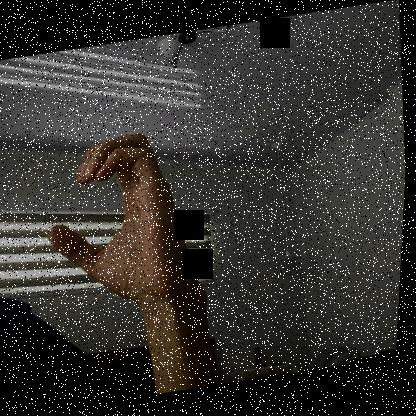C: (39, 125, 205, 318)
